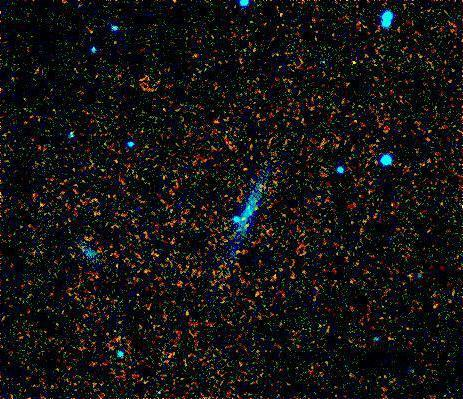star: (337, 46, 367, 76)
